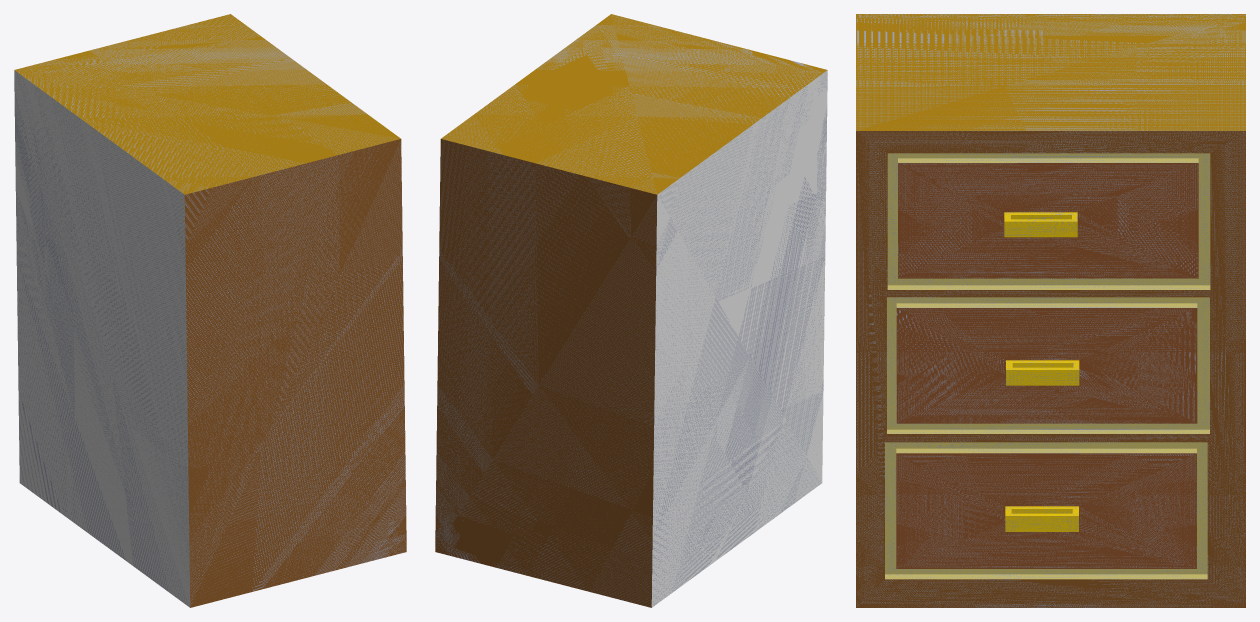
The model's file is comodino.dae.
The picture shows the model from 3 angles, left to right: view 1: azimuth 30°, elevation 25°; view 2: azimuth 150°, elevation 25°; view 3: azimuth 270°, elevation 25°; orthographic projection. The views are drawn at different scales.
Visible parts, largest first — view 1: Component (×3); view 2: Component (×3); view 3: Component (×14).
Boxes of the visible parts, <box> form: Component (×3): <box>14,14,406,607</box>; Component (×3): <box>435,14,827,607</box>; Component (×14): <box>856,14,1245,607</box>.
Bounding box in the file's own units: 21.71 × 26.86 × 36.29.
